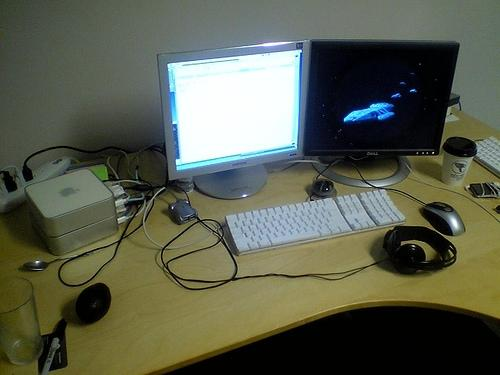apple: (60, 188, 80, 196)
